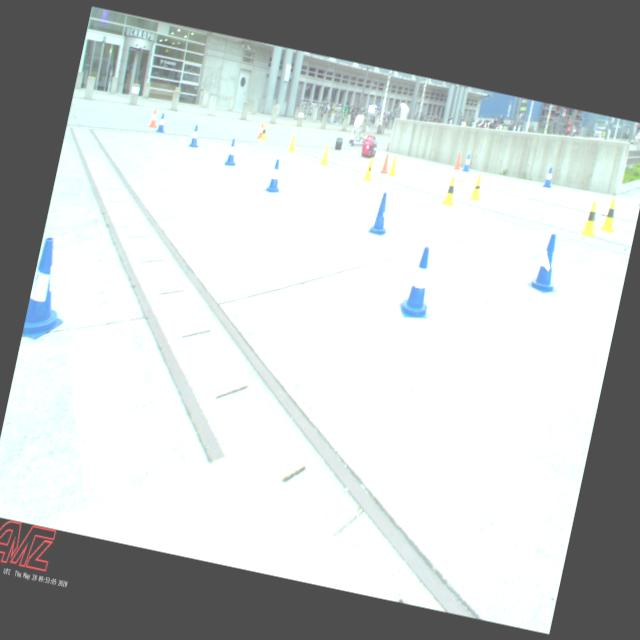blue_cone: (22, 236, 78, 342), (397, 245, 442, 322), (526, 230, 568, 296), (368, 190, 394, 237), (264, 158, 286, 194), (222, 138, 241, 168), (186, 125, 204, 148), (153, 112, 170, 133), (541, 166, 556, 189), (462, 154, 472, 172)
orange_cone: (378, 152, 392, 174), (148, 108, 160, 128), (452, 152, 463, 170), (256, 122, 264, 138)
yellow_cone: (578, 199, 604, 239), (598, 196, 622, 234), (440, 178, 460, 206), (468, 172, 487, 201), (361, 156, 377, 182), (318, 144, 333, 167), (387, 154, 400, 177), (259, 124, 269, 140)
